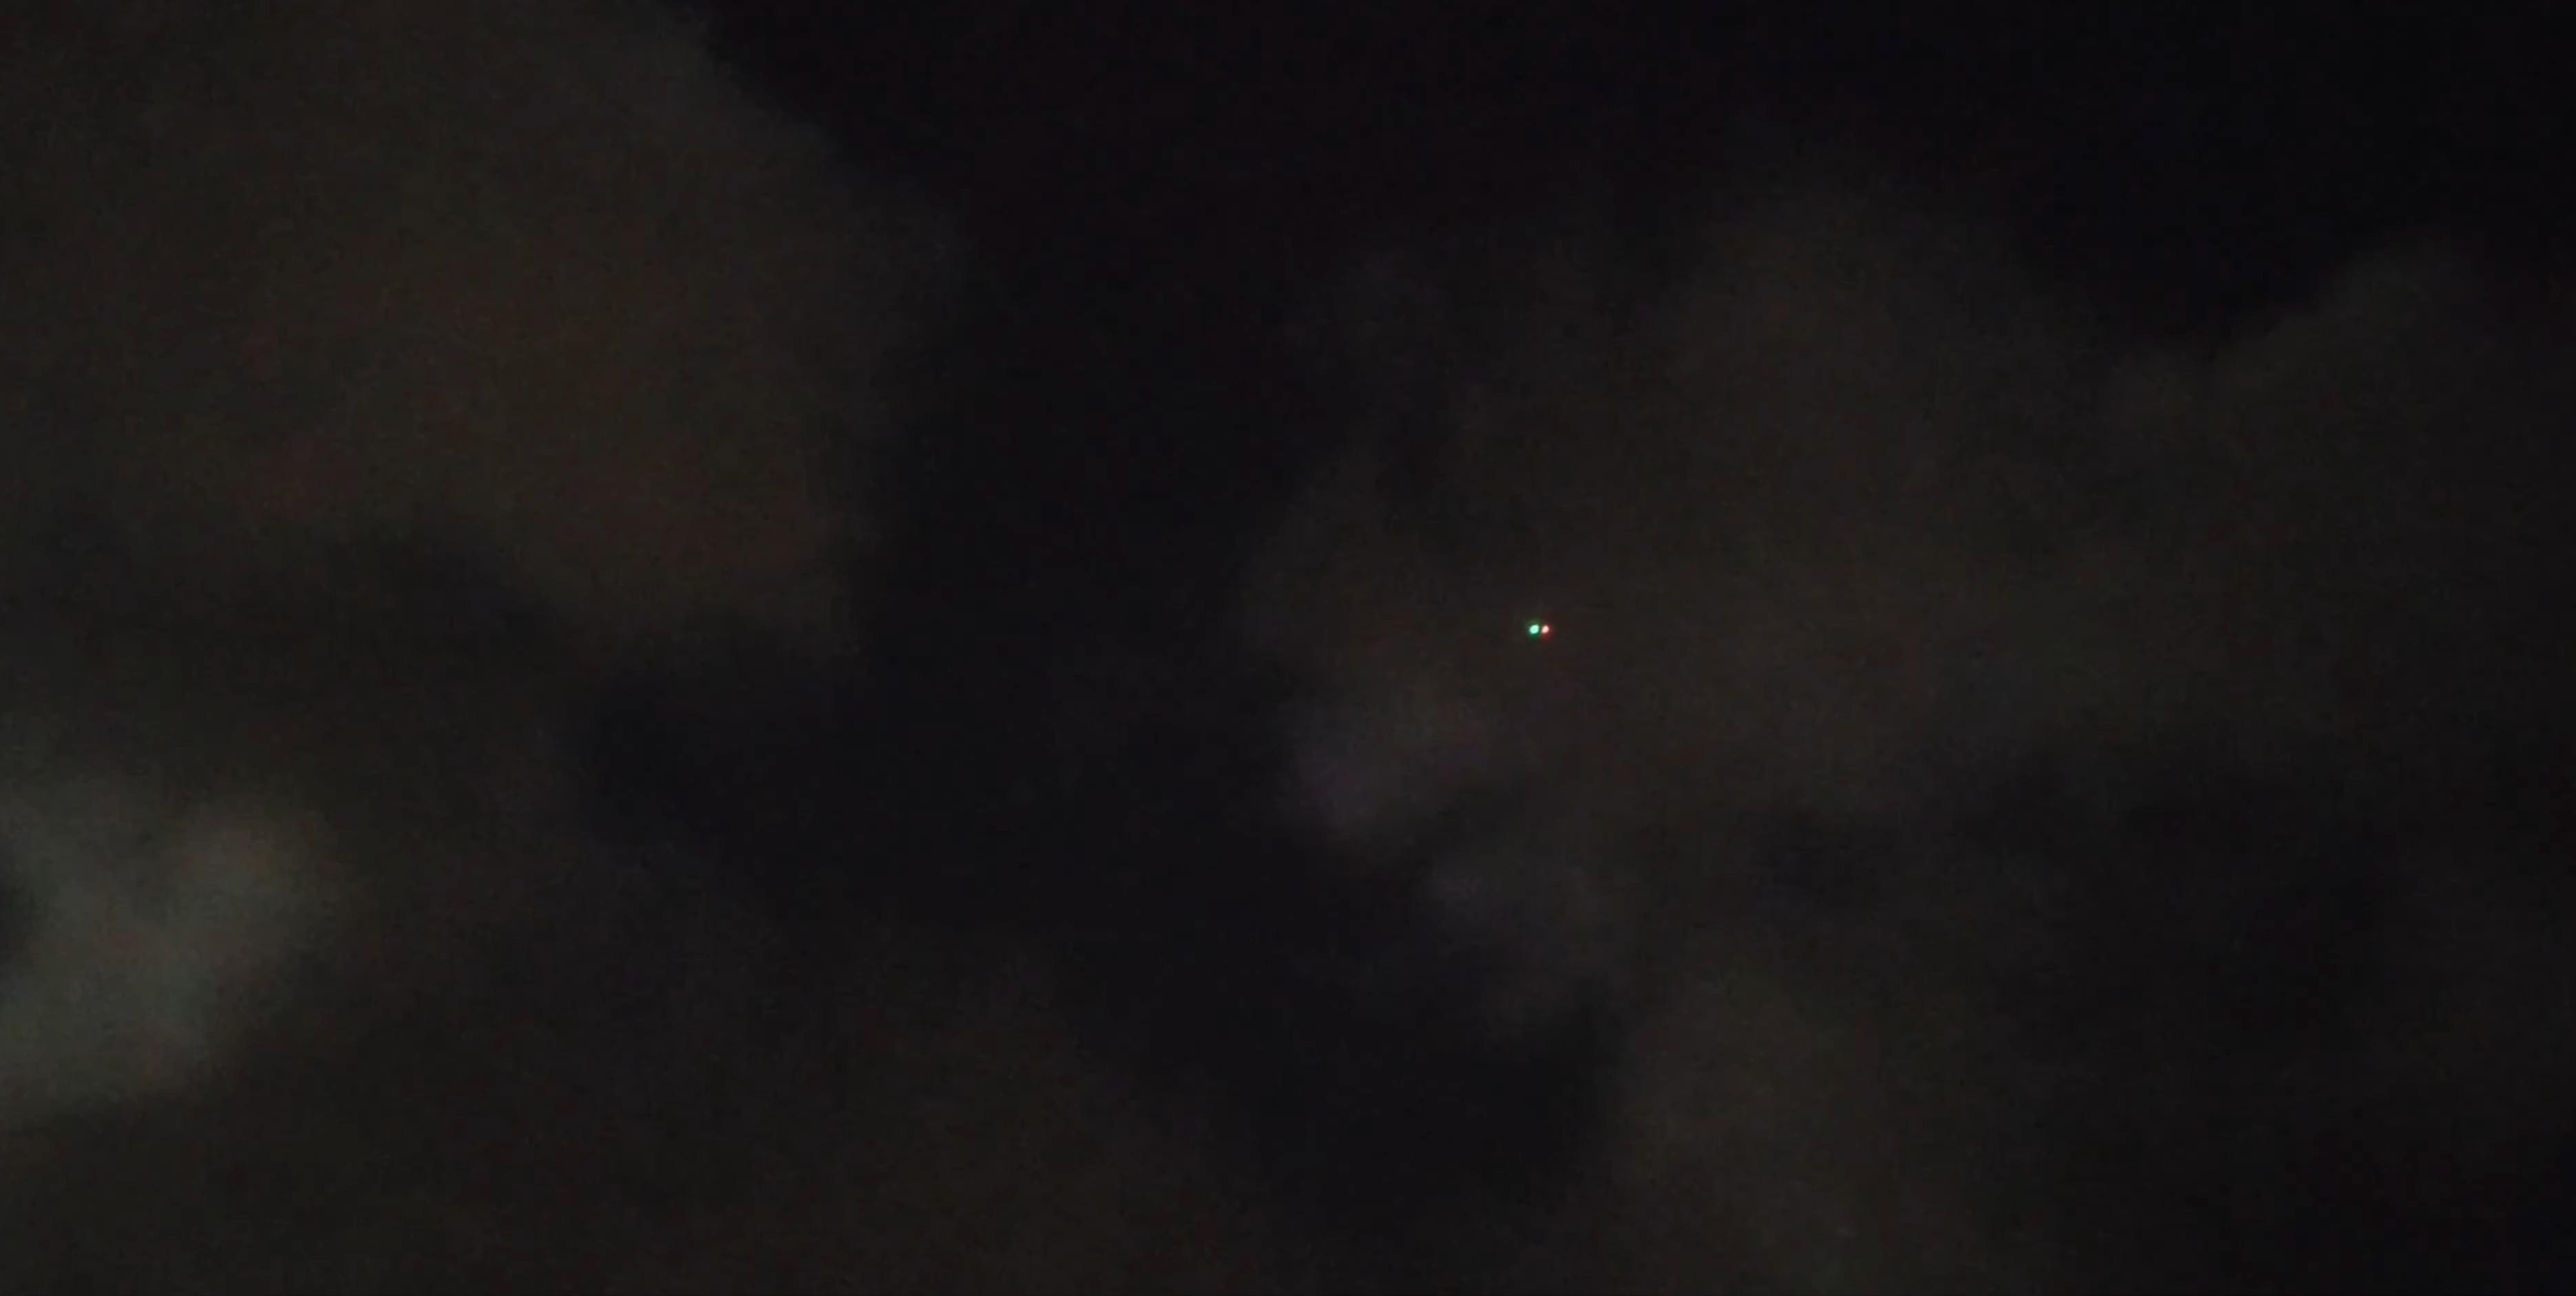Plane: (1514, 607, 1566, 650)
